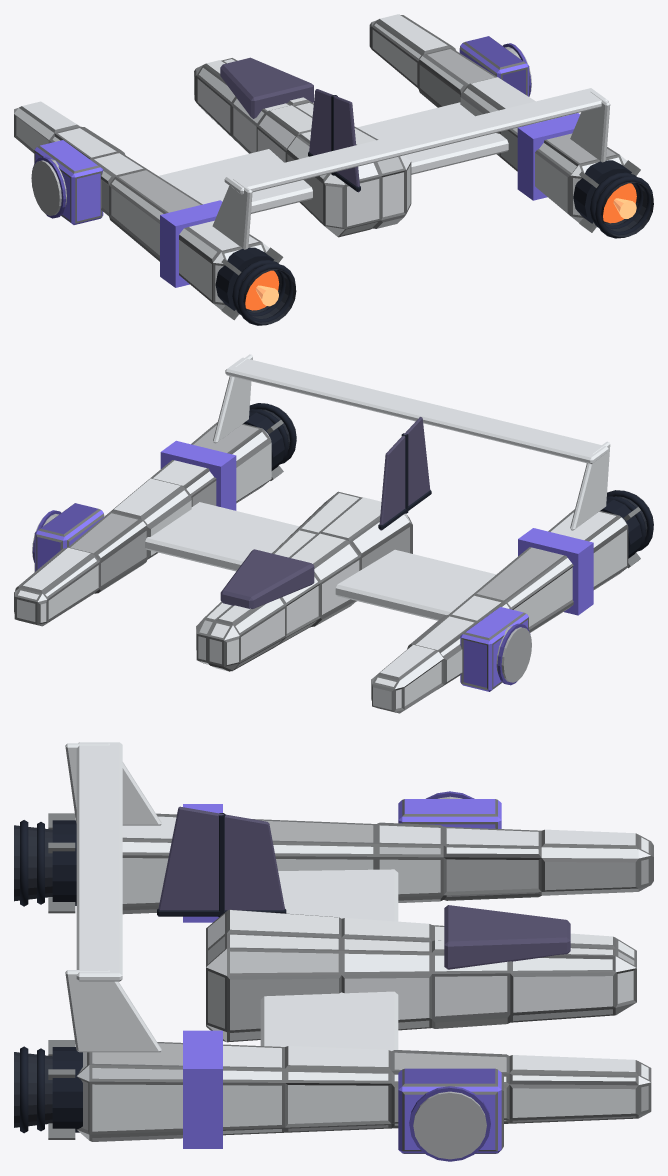
Rendered from wisp.glb.
3 renders of one model, top to bottom at view 1: azimuth 30°, elevation 25°; view 2: azimuth 150°, elevation 25°; view 3: azimuth 270°, elevation 25°, orthographic. The views are drawn at different scales.
Visible parts, largest first — view 1: wisp_mesh; view 2: wisp_mesh; view 3: wisp_mesh.
Part boxes in pixels (<box>): wisp_mesh: <box>14,14,653,325</box>; wisp_mesh: <box>14,354,653,713</box>; wisp_mesh: <box>14,742,653,1161</box>.
Size of the model in its own units: 7.39 by 2.26 by 6.68.
